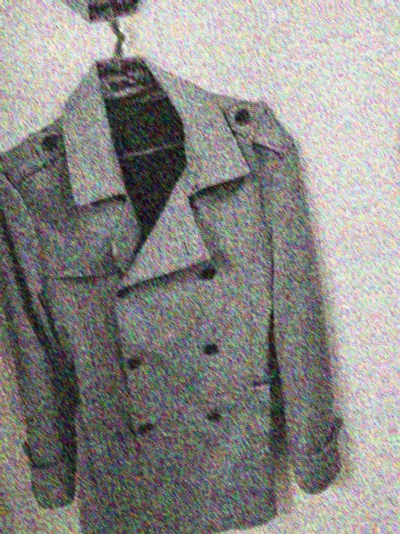Blazer: (0, 37, 374, 534), (365, 0, 400, 500), (0, 0, 297, 35)
